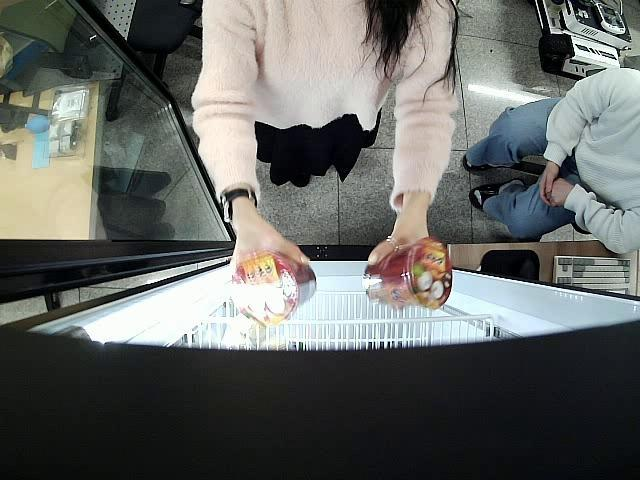06_nuguri_S: (230, 251, 316, 325), (364, 237, 452, 309)
